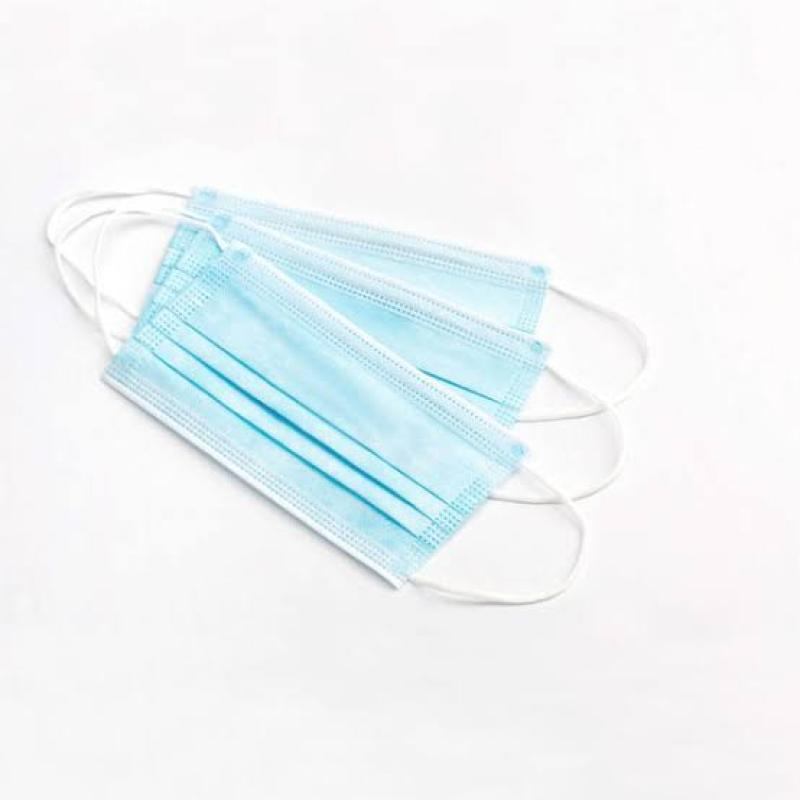facemask: (103, 246, 583, 608), (209, 215, 544, 426), (191, 189, 547, 332), (144, 234, 219, 319), (153, 221, 202, 283)
